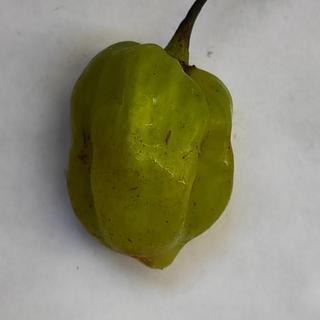Fly-bites: (126, 235, 133, 245), (133, 192, 141, 200), (191, 200, 198, 209), (87, 203, 95, 210), (164, 218, 170, 224)
striped: (163, 129, 172, 145)
